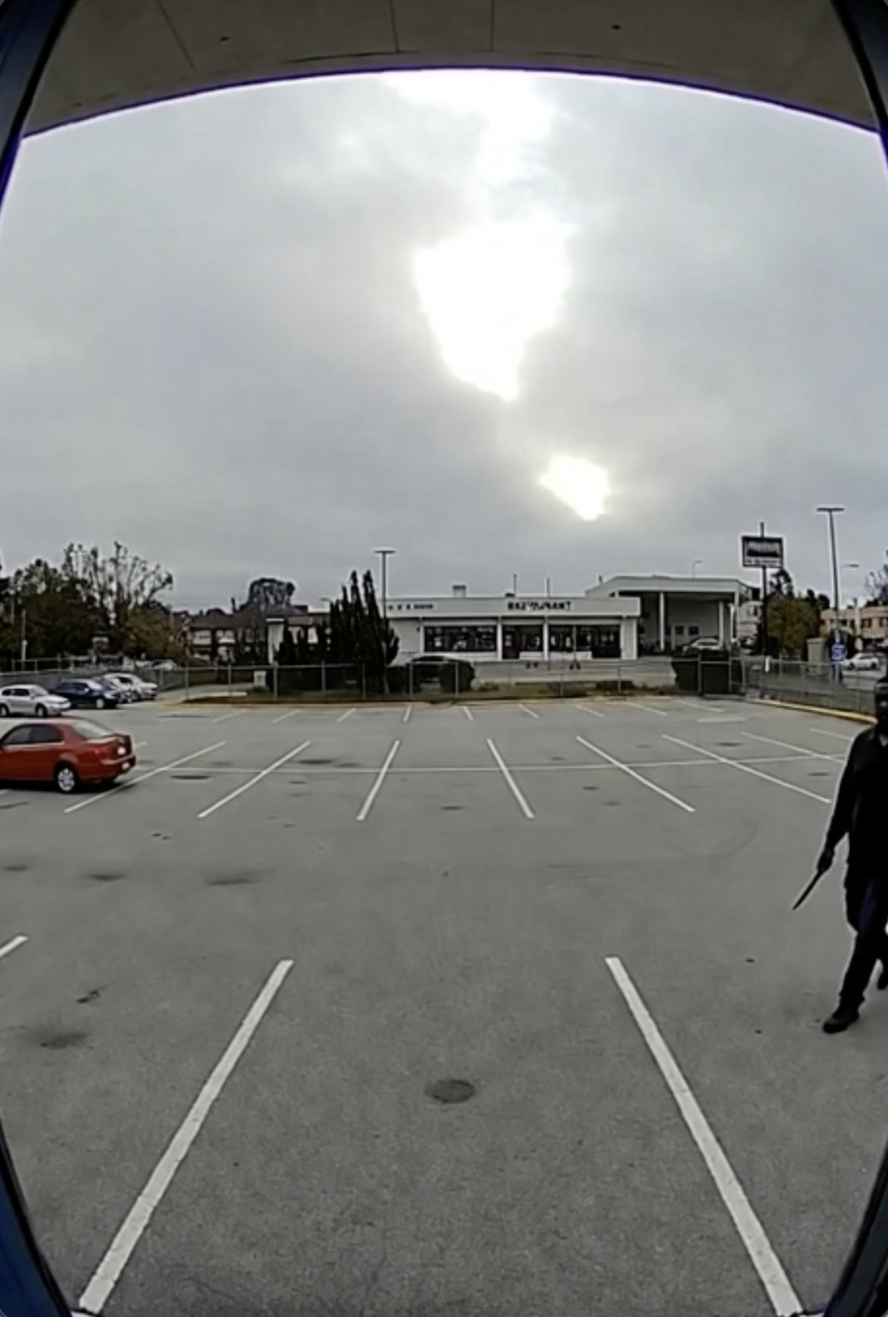Heavy Gun: (814, 667, 888, 1043)
Knife: (782, 836, 839, 917)
